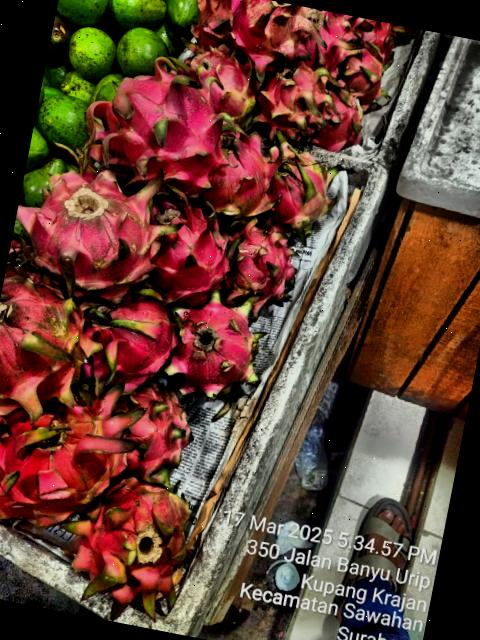buah-naga-belum-matang: (10, 164, 168, 306), (70, 466, 204, 626), (165, 39, 276, 137), (260, 140, 349, 242), (247, 47, 338, 136)
buah-naga-matang: (88, 58, 238, 202), (0, 389, 135, 538), (0, 269, 103, 426), (70, 280, 185, 398), (131, 196, 241, 314), (158, 288, 268, 405), (88, 378, 202, 477), (206, 213, 308, 318), (198, 116, 288, 224), (217, 0, 330, 72), (313, 28, 402, 114), (309, 74, 377, 158)
